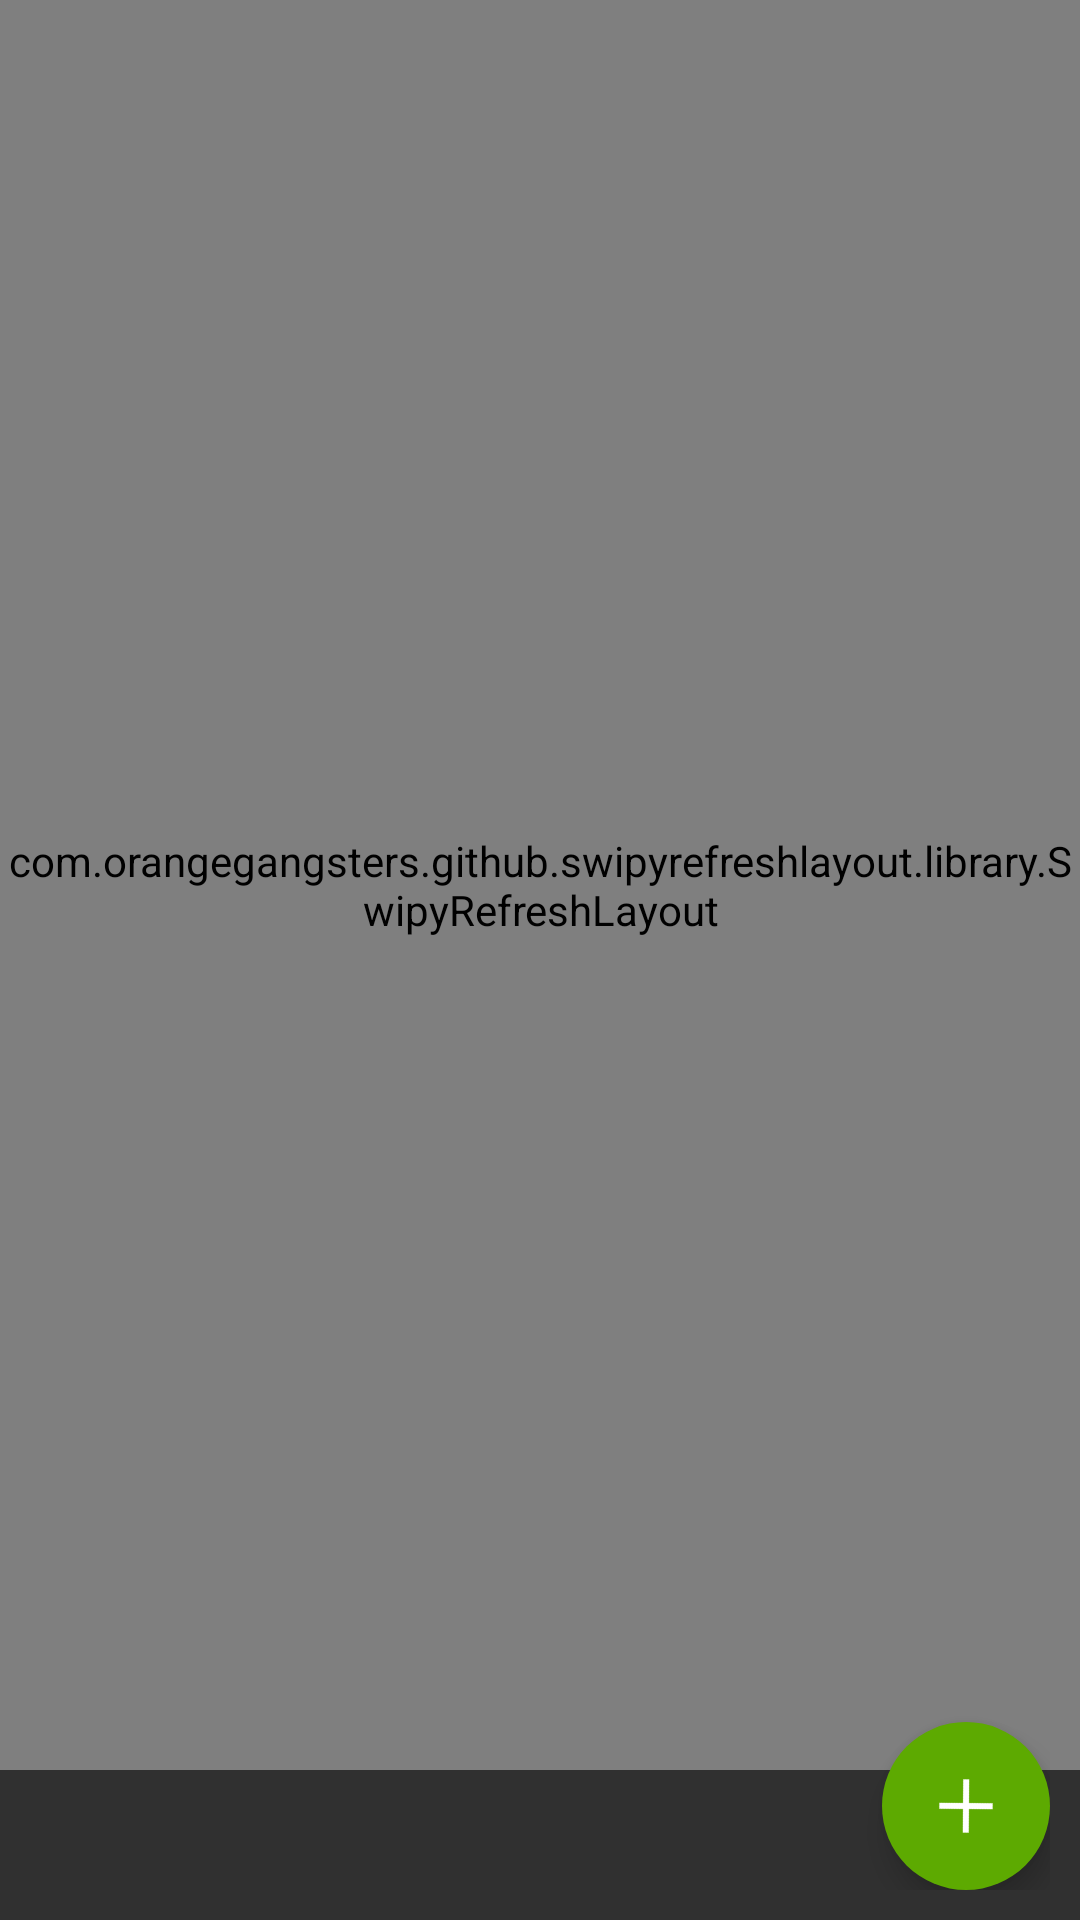

Icons on this 1080w x 1920h Android screen, each with its box as (x1, y1, x2, y2):
floating cross: (882, 1722, 1050, 1890)
